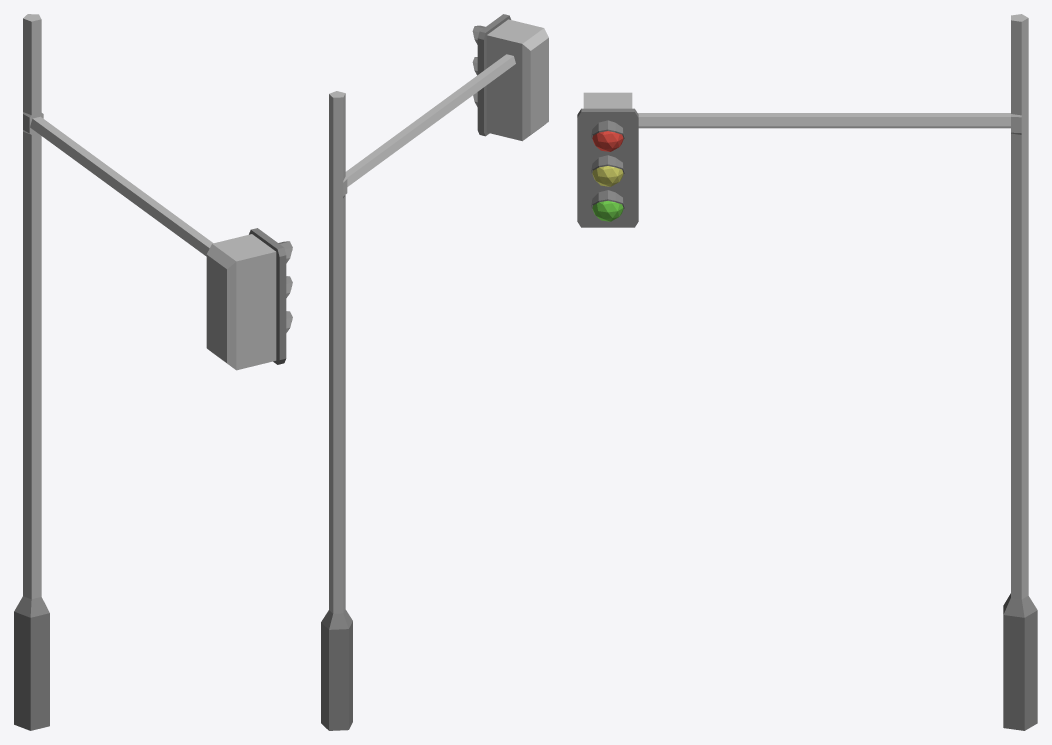
Rendered from TrafficLight_2.glb.
3 renders of one model, left to right at view 1: azimuth 30°, elevation 25°; view 2: azimuth 150°, elevation 25°; view 3: azimuth 270°, elevation 25°, orthographic. The views are drawn at different scales.
Parts seen in each view (by area): view 1: TrafficLight_2; view 2: TrafficLight_2; view 3: TrafficLight_2.
Part boxes in pixels (box(x1,y1,x2,y2)): TrafficLight_2: box(14, 14, 292, 730); TrafficLight_2: box(321, 14, 548, 730); TrafficLight_2: box(577, 14, 1037, 730).
Size of the model in its own units: 0.123 by 1.13 by 0.6708.
